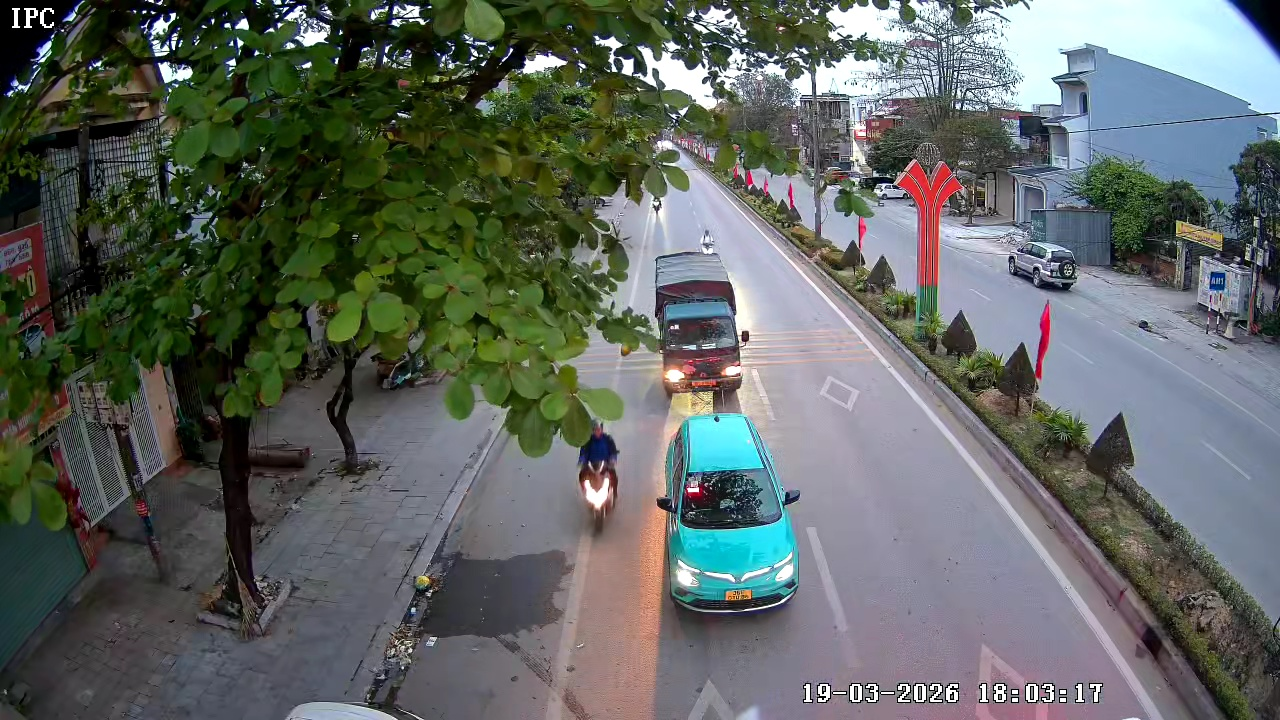car: (656, 412, 803, 616), (1007, 240, 1080, 291)
motorbike: (572, 419, 623, 538)
truck: (653, 247, 749, 401)
